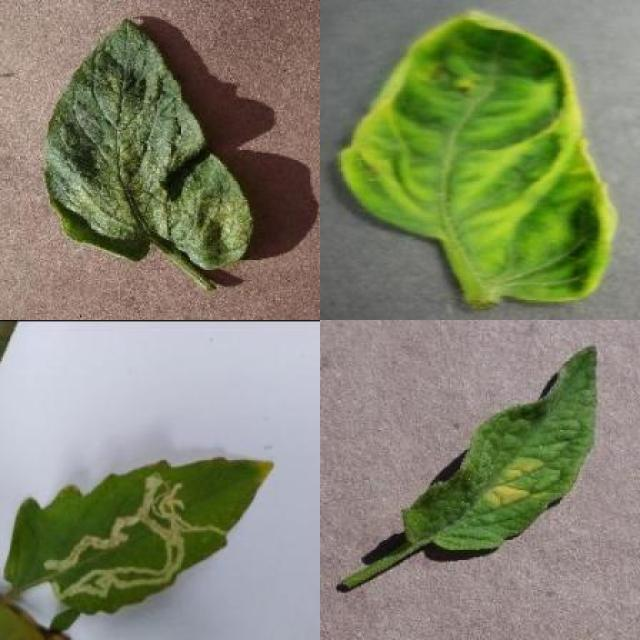Leaf Miner: (2, 455, 277, 615)
Leaf Mold: (401, 345, 598, 552)
Spider Mites: (48, 17, 255, 270)
Yellow Leaf Curl Virus: (338, 8, 618, 303)
